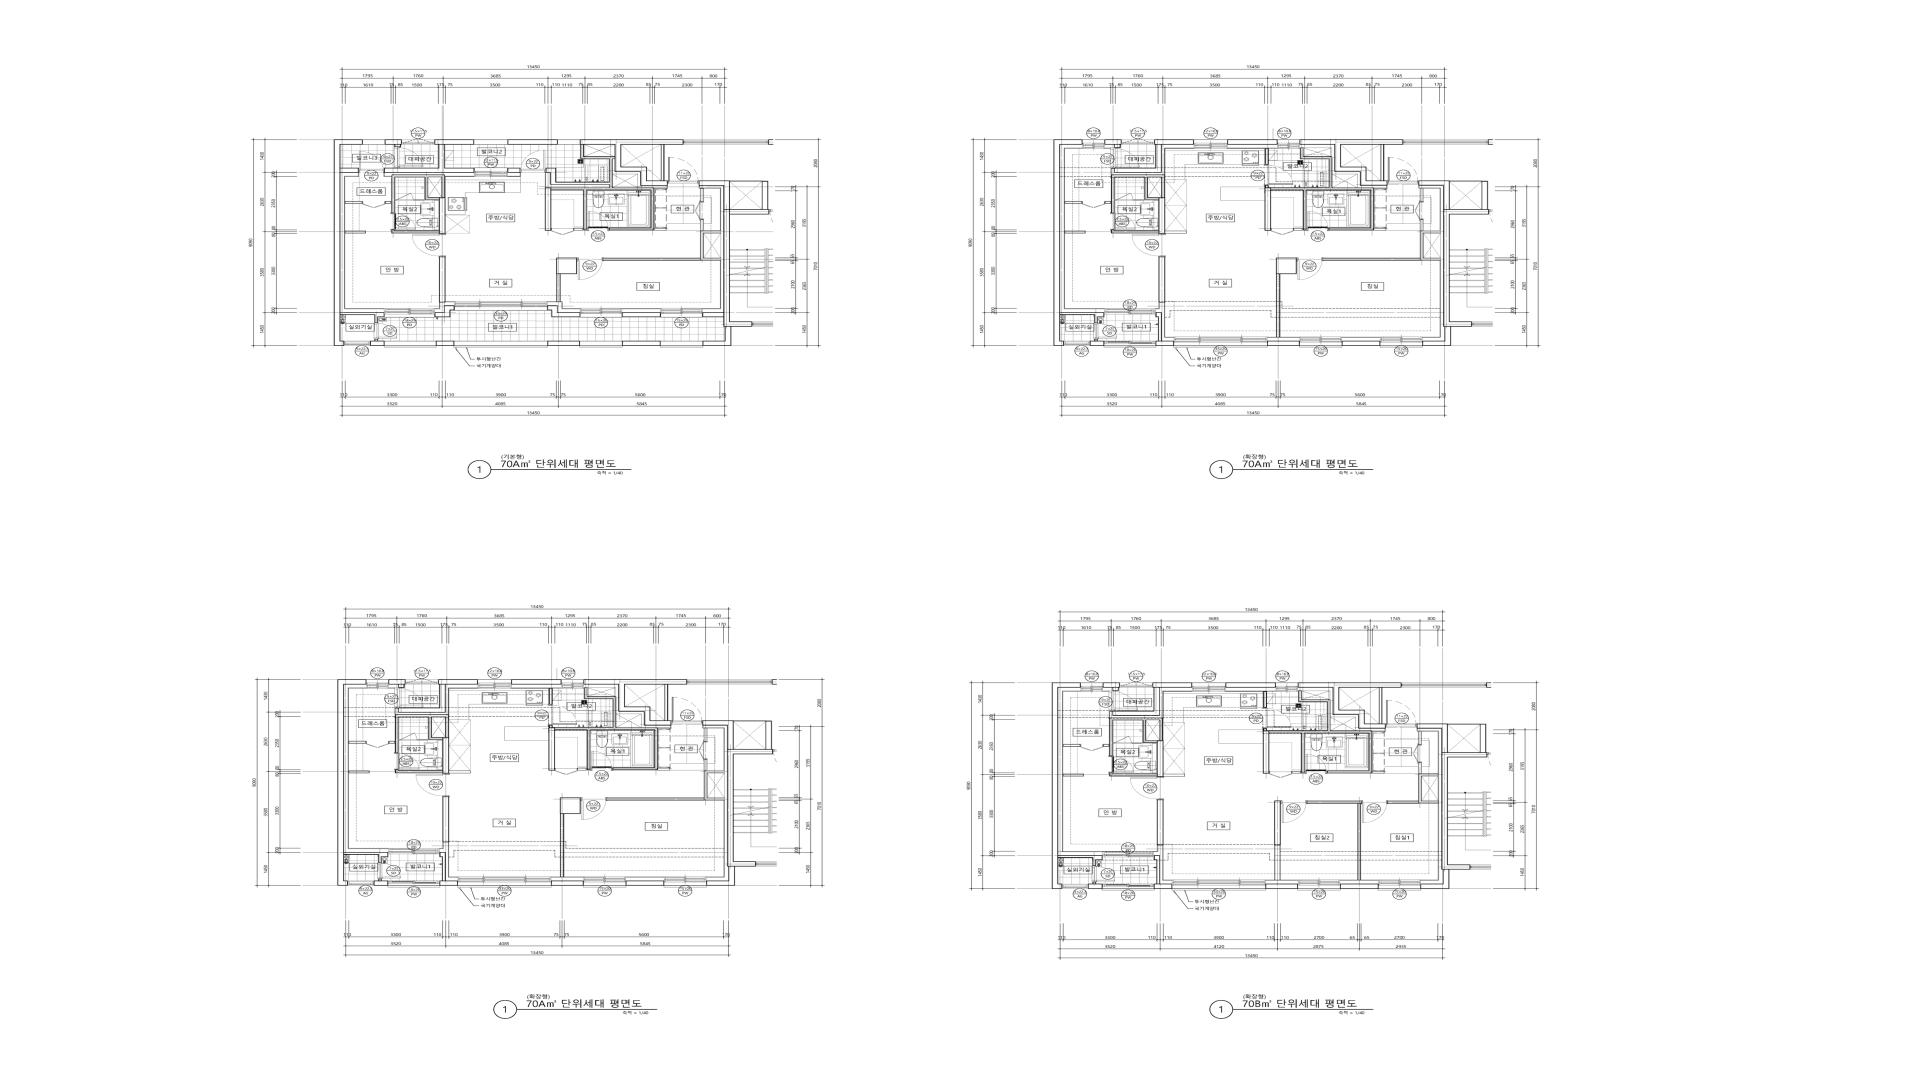door: (1387, 157, 1419, 183), (667, 157, 699, 183), (1386, 700, 1418, 727), (671, 698, 703, 723), (413, 233, 446, 257), (1133, 233, 1166, 257), (415, 773, 448, 796), (1265, 165, 1294, 186), (549, 704, 578, 725), (394, 687, 423, 708), (520, 150, 546, 173), (580, 798, 607, 820), (1280, 800, 1307, 823), (1109, 691, 1138, 711), (394, 148, 423, 167), (1110, 148, 1139, 167), (1362, 800, 1387, 823), (1296, 258, 1323, 280), (576, 258, 603, 280), (1263, 708, 1291, 728), (359, 152, 384, 173), (1307, 211, 1329, 231), (587, 211, 609, 231), (591, 752, 613, 770), (1304, 754, 1327, 773), (1109, 756, 1133, 773), (392, 214, 415, 229), (1093, 866, 1116, 882), (1095, 323, 1117, 339), (375, 323, 397, 339), (378, 862, 401, 878), (695, 200, 704, 220), (1081, 202, 1105, 208), (365, 741, 389, 748), (1271, 228, 1294, 235), (551, 228, 574, 235), (363, 202, 385, 208), (555, 767, 578, 774), (1270, 771, 1292, 778), (1113, 736, 1131, 744), (1415, 202, 1423, 220), (699, 741, 707, 760), (400, 733, 417, 741), (1116, 193, 1133, 200), (396, 193, 413, 200), (1414, 745, 1422, 762), (1080, 745, 1104, 750)
wall: (1323, 186, 1445, 342), (607, 725, 728, 881), (1416, 724, 1487, 889), (703, 720, 773, 886), (1419, 181, 1489, 345), (699, 181, 769, 345), (338, 679, 388, 886), (1052, 683, 1102, 889), (1054, 140, 1104, 345), (334, 140, 384, 345), (1271, 145, 1387, 231), (555, 684, 671, 770), (545, 145, 654, 231), (1263, 691, 1373, 774), (1058, 687, 1102, 856), (340, 173, 384, 313), (1298, 683, 1402, 729), (603, 220, 720, 261), (584, 679, 687, 725), (1300, 140, 1403, 186), (580, 140, 683, 186), (1307, 800, 1362, 880), (1418, 729, 1443, 884), (1298, 687, 1386, 731), (1109, 717, 1163, 777), (699, 186, 724, 313), (1110, 140, 1195, 175), (384, 140, 475, 173), (394, 679, 477, 715), (1113, 683, 1192, 716), (1109, 687, 1192, 717), (1105, 175, 1166, 214), (389, 715, 448, 753), (551, 814, 583, 881), (1267, 274, 1299, 342), (392, 174, 444, 214), (613, 160, 667, 187), (1266, 845, 1298, 884), (1228, 145, 1278, 165), (512, 684, 562, 704), (1155, 302, 1174, 342), (439, 843, 458, 881), (1154, 845, 1172, 884), (439, 852, 458, 886), (1154, 856, 1172, 889), (1155, 313, 1174, 345), (707, 773, 725, 798), (1423, 233, 1441, 258), (1422, 777, 1439, 800), (384, 173, 475, 177), (547, 306, 580, 316), (547, 302, 580, 313), (1276, 257, 1296, 274), (556, 257, 576, 274), (560, 798, 580, 814), (1156, 799, 1163, 845), (1274, 800, 1280, 845), (1146, 720, 1159, 742), (439, 257, 446, 302), (1159, 257, 1166, 302), (1265, 186, 1271, 231), (549, 725, 555, 770), (1303, 148, 1332, 157), (587, 687, 616, 696), (1228, 140, 1278, 145), (508, 140, 558, 145), (512, 679, 562, 684), (443, 796, 448, 843), (1159, 198, 1166, 233), (439, 198, 446, 233), (435, 306, 455, 316), (435, 302, 455, 313), (1225, 683, 1276, 687), (1225, 687, 1276, 691), (1340, 884, 1378, 889), (626, 881, 663, 886), (392, 229, 439, 233), (1112, 229, 1159, 233), (443, 737, 448, 773), (551, 881, 583, 886), (1266, 884, 1298, 889), (1342, 342, 1381, 345), (1342, 338, 1381, 342), (622, 309, 661, 313), (622, 342, 661, 345), (622, 313, 661, 316), (1340, 880, 1378, 884), (626, 877, 663, 881), (661, 145, 665, 181), (1381, 145, 1385, 181), (1102, 683, 1120, 691), (385, 140, 402, 148), (1105, 140, 1122, 148), (394, 770, 443, 773), (1387, 800, 1419, 804), (1267, 342, 1299, 345), (547, 342, 579, 345), (389, 679, 405, 687), (373, 878, 388, 886), (508, 167, 520, 177), (556, 274, 560, 302), (1379, 687, 1382, 724), (1088, 882, 1102, 889), (665, 684, 667, 720), (1091, 339, 1104, 345), (371, 339, 384, 345), (1263, 691, 1267, 708), (436, 342, 454, 345), (1163, 774, 1185, 777), (1064, 231, 1085, 233), (1166, 231, 1187, 233), (345, 231, 365, 233), (700, 189, 704, 202), (1064, 202, 1081, 204), (345, 202, 363, 204), (348, 741, 365, 744), (1449, 181, 1482, 182), (733, 720, 766, 721), (1102, 687, 1113, 691), (1448, 724, 1480, 725), (731, 181, 762, 182), (1105, 145, 1114, 149), (389, 684, 398, 688), (654, 228, 666, 231), (448, 771, 471, 773), (348, 771, 369, 773), (574, 228, 584, 231), (385, 202, 392, 204), (1373, 771, 1385, 773), (413, 199, 425, 200), (1131, 742, 1142, 744), (1104, 744, 1109, 746), (1133, 199, 1143, 200), (417, 740, 427, 741), (1292, 771, 1302, 773)
window: (1172, 880, 1266, 890), (458, 877, 551, 887), (1174, 338, 1267, 348), (455, 302, 547, 310), (454, 342, 547, 348), (384, 309, 435, 318), (1378, 880, 1422, 890), (663, 877, 707, 887), (583, 877, 626, 887), (1379, 338, 1423, 348), (1299, 338, 1342, 348), (1298, 880, 1340, 890), (661, 309, 703, 318), (580, 309, 622, 318), (388, 881, 440, 887), (1104, 342, 1156, 348), (384, 342, 436, 348), (388, 848, 439, 855), (1193, 140, 1228, 149), (477, 679, 512, 688), (475, 167, 508, 177), (579, 342, 622, 348), (661, 342, 703, 348), (1102, 885, 1154, 890), (1102, 852, 1154, 857), (1104, 309, 1155, 314), (1192, 683, 1225, 691), (405, 678, 438, 684), (1122, 138, 1154, 145), (402, 138, 434, 145), (562, 679, 584, 688), (1278, 140, 1300, 149), (1083, 140, 1105, 149), (367, 679, 389, 688), (473, 140, 508, 145), (1080, 683, 1102, 691), (1120, 682, 1153, 687), (1276, 683, 1298, 691), (348, 881, 373, 886), (363, 140, 385, 145), (558, 140, 580, 145), (1062, 885, 1088, 889), (344, 342, 371, 345), (1064, 342, 1091, 345)
